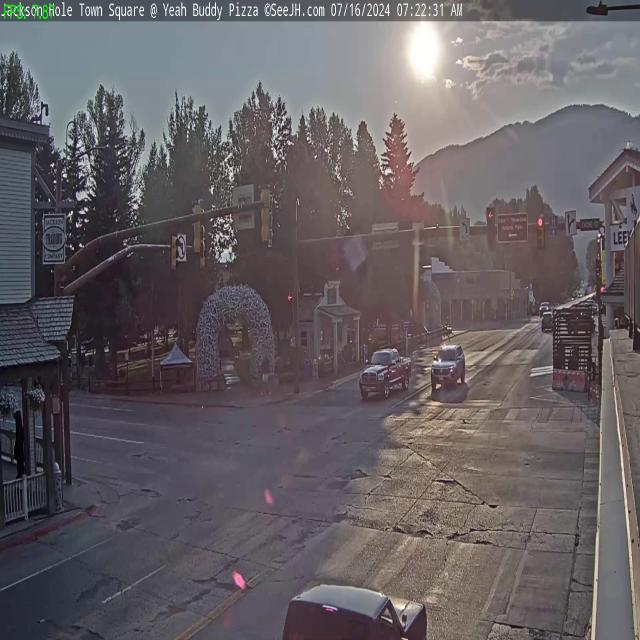pickup: (358, 346, 412, 399)
suv: (430, 342, 466, 390)
traffic light: (260, 189, 270, 242), (193, 203, 201, 254), (486, 205, 495, 250), (536, 214, 544, 248), (170, 235, 177, 270), (287, 292, 293, 325), (486, 205, 494, 225), (596, 257, 600, 278)
